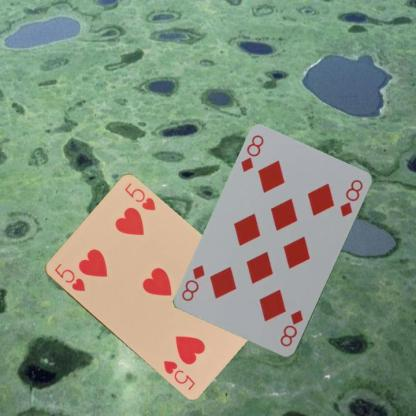5h: (51, 261, 86, 293)
8d: (238, 132, 265, 174), (277, 308, 304, 348)
